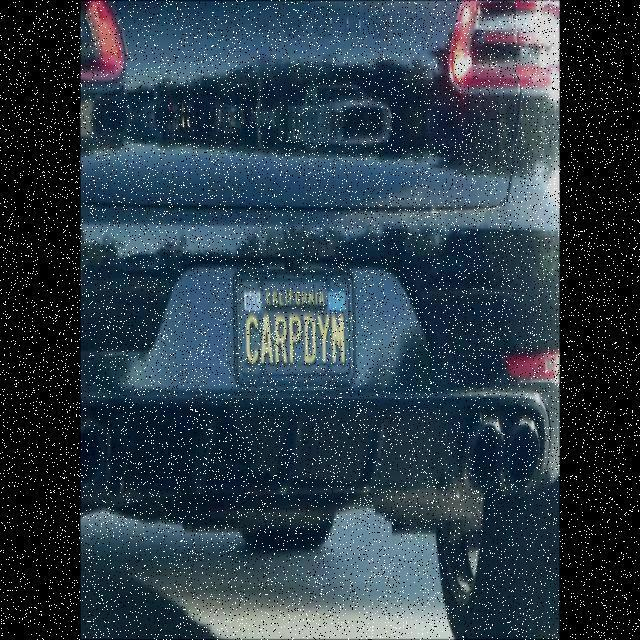LicensePlate: (228, 256, 364, 397)
